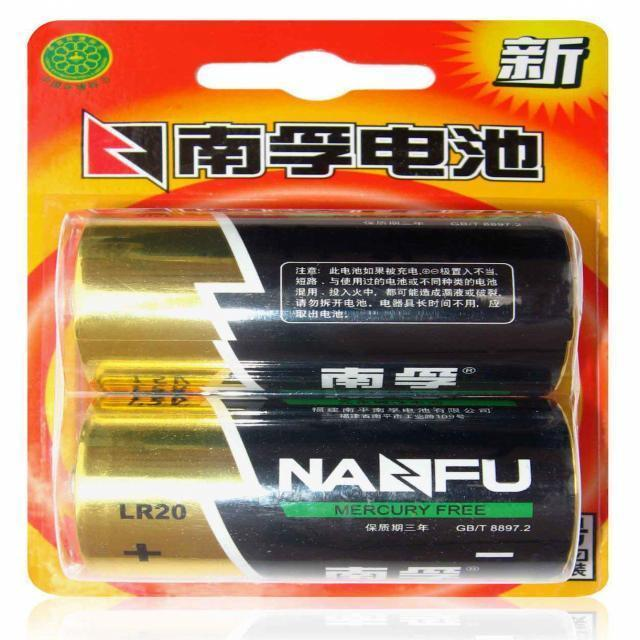Hazard: (70, 211, 572, 398)
